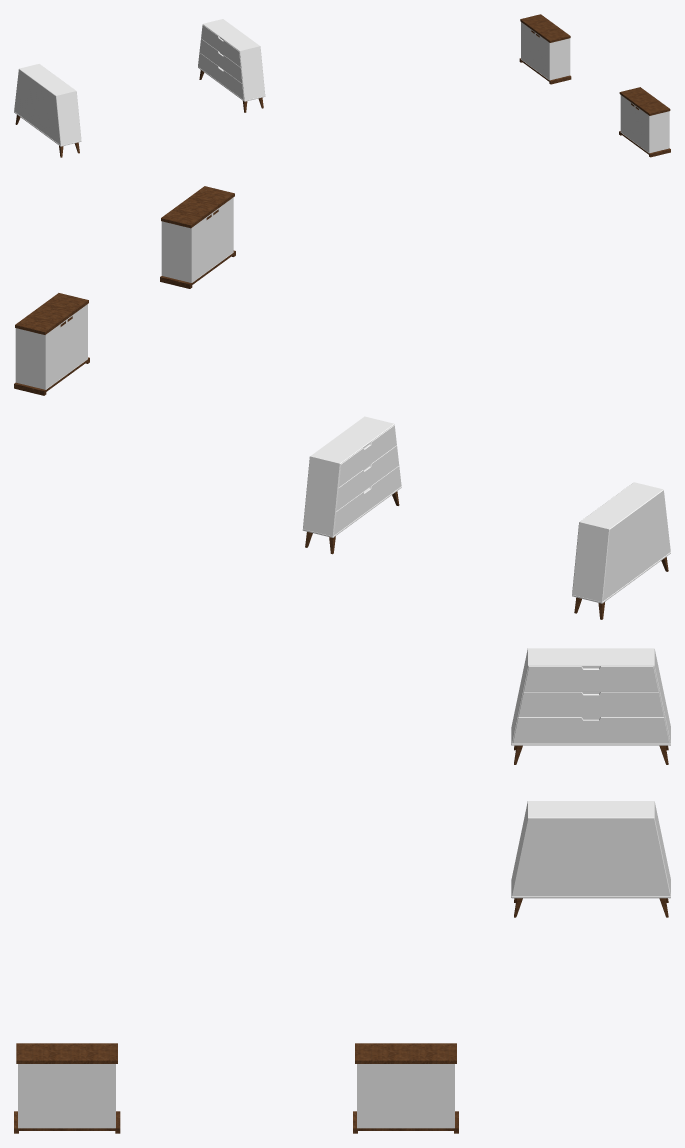
Rendered from CR04_COD.FBX.
3 renders of one model, top to bottom at view 1: azimuth 30°, elevation 25°; view 2: azimuth 150°, elevation 25°; view 3: azimuth 270°, elevation 25°, orthographic. The views are drawn at different scales.
Visible parts, largest first — view 1: CR04_COD04, CR04_COD03, CR04_COD01, CR04_COD02; view 2: CR04_COD04, CR04_COD03, CR04_COD01, CR04_COD02; view 3: CR04_COD03, CR04_COD04, CR04_COD02, CR04_COD01.
Boxes of the visible parts, left/top/right/bottom form: CR04_COD04: left=14, top=64, right=81, bottom=157; CR04_COD03: left=198, top=19, right=265, bottom=112; CR04_COD01: left=519, top=14, right=571, bottom=84; CR04_COD02: left=619, top=87, right=670, bottom=157; CR04_COD04: left=572, top=482, right=670, bottom=619; CR04_COD03: left=302, top=416, right=401, bottom=554; CR04_COD01: left=14, top=293, right=89, bottom=395; CR04_COD02: left=160, top=186, right=235, bottom=288; CR04_COD03: left=511, top=801, right=670, bottom=917; CR04_COD04: left=511, top=648, right=670, bottom=764; CR04_COD02: left=14, top=1043, right=120, bottom=1133; CR04_COD01: left=353, top=1043, right=458, bottom=1133.
Size of the model in its own units: 7871 by 958 by 5674.
